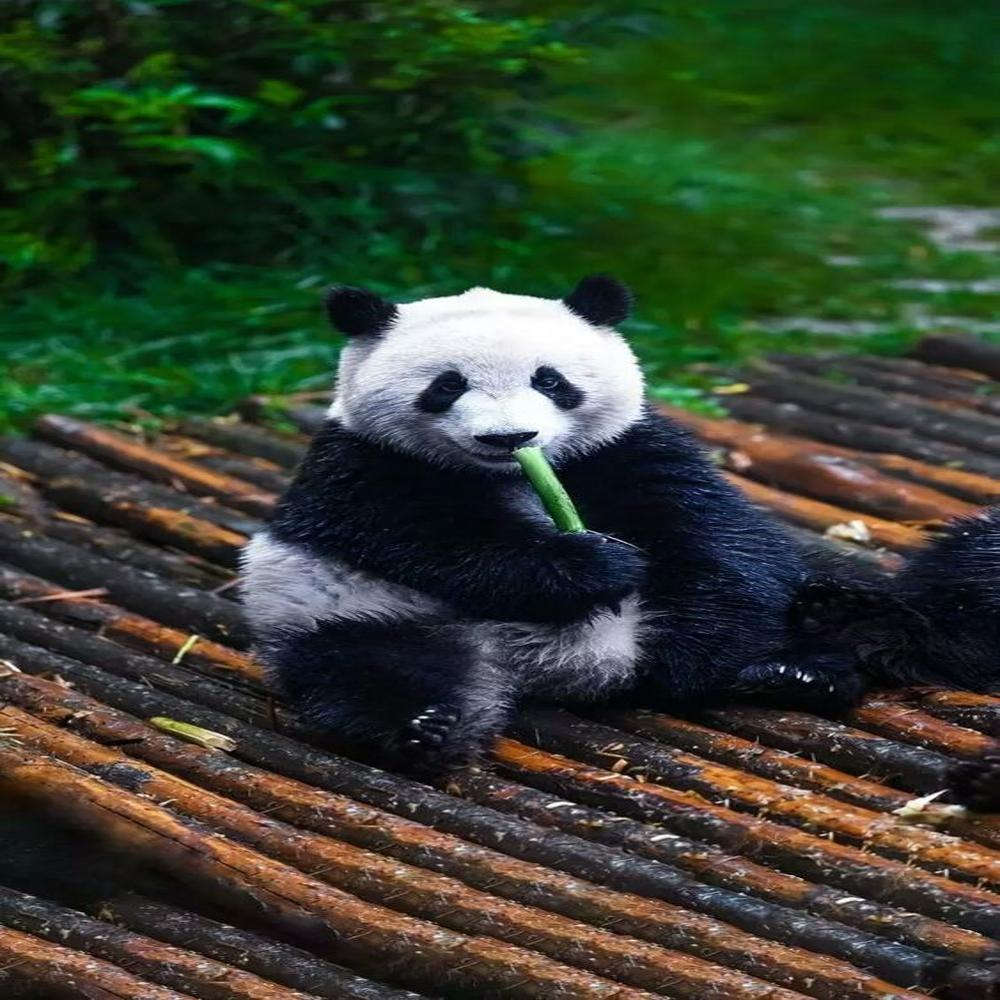panda: (242, 276, 832, 753)
